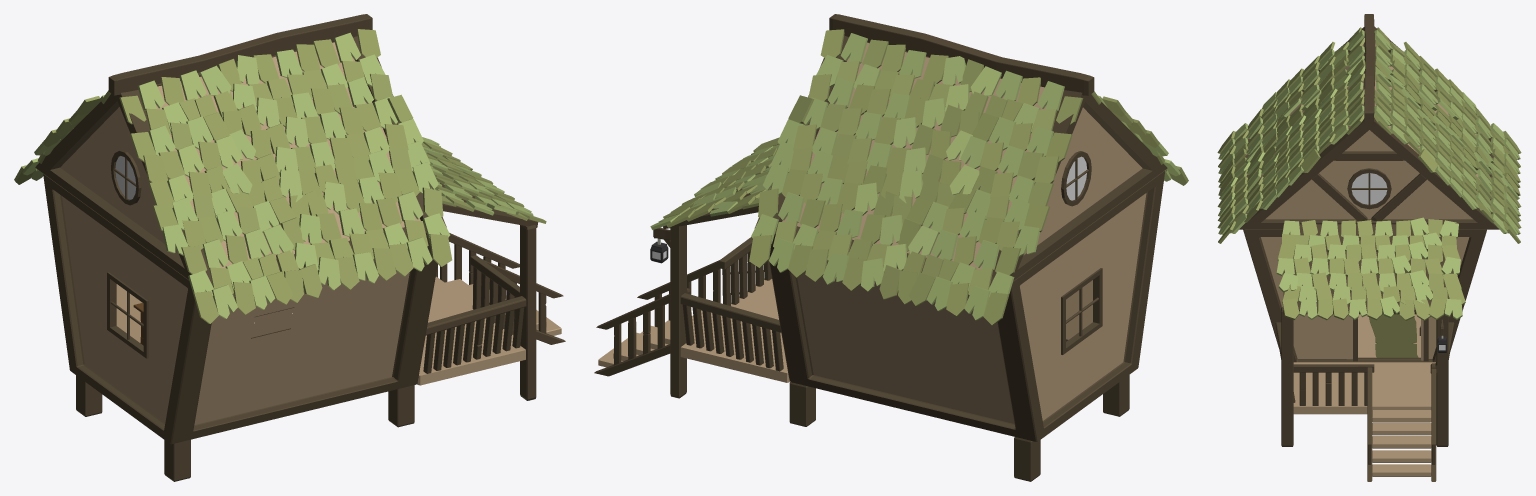
Rendered from ODHouse1.fbx.
The picture shows the model from 3 angles, left to right: view 1: azimuth 30°, elevation 25°; view 2: azimuth 150°, elevation 25°; view 3: azimuth 270°, elevation 25°; orthographic projection. The views are drawn at different scales.
Parts seen in each view (by area): view 1: Cube.034, Vert.010, Vert.009, Cube.035, Cube.044, Cube.040, Cube.037, dışayaklar, Vert.013, Cube.059, Vert.014, Cube.045 (+9 smaller); view 2: Cube.034, Vert.010, Vert.009, Cube.035, Cube.044, Cube.040, Cube.037, dışayaklar, Vert.013, Cube.043, Cube.059, Vert.014 (+8 smaller); view 3: Vert.010, Vert.009, Cube.035, Vert.013, Cube.034, Vert.014, Cube.037, Plane.012, dışayaklar, Plane.014, Cube.061, Cube.042 (+8 smaller).
Boxes of the visible parts, x1=… form: Cube.034: x1=43, y1=174, x2=437, y2=444; Vert.010: x1=14, y1=29, x2=452, y2=323; Vert.009: x1=22, y1=32, x2=450, y2=318; Cube.035: x1=35, y1=36, x2=446, y2=284; Cube.044: x1=108, y1=14, x2=372, y2=95; Cube.040: x1=423, y1=307, x2=524, y2=373; Cube.037: x1=417, y1=276, x2=525, y2=385; dışayaklar: x1=435, y1=225, x2=536, y2=400; Vert.013: x1=421, y1=141, x2=546, y2=223; Cube.059: x1=76, y1=375, x2=190, y2=481; Vert.014: x1=422, y1=137, x2=533, y2=215; Cube.045: x1=107, y1=271, x2=148, y2=358; Cube.034: x1=769, y1=171, x2=1164, y2=441; Vert.010: x1=749, y1=29, x2=1188, y2=325; Vert.009: x1=751, y1=33, x2=1180, y2=320; Cube.035: x1=754, y1=35, x2=1167, y2=285; Cube.044: x1=829, y1=14, x2=1094, y2=95; Cube.040: x1=682, y1=304, x2=783, y2=371; Cube.037: x1=680, y1=278, x2=790, y2=382; dışayaklar: x1=670, y1=225, x2=690, y2=398; Vert.013: x1=663, y1=137, x2=779, y2=227; Cube.043: x1=614, y1=269, x2=720, y2=365; Cube.059: x1=1014, y1=375, x2=1129, y2=481; Vert.014: x1=650, y1=144, x2=779, y2=229; Vert.010: x1=1217, y1=27, x2=1521, y2=243; Vert.009: x1=1218, y1=30, x2=1520, y2=234; Cube.035: x1=1239, y1=27, x2=1499, y2=229; Vert.013: x1=1277, y1=219, x2=1465, y2=320; Cube.034: x1=1243, y1=229, x2=1486, y2=362; Vert.014: x1=1276, y1=217, x2=1462, y2=319; Cube.037: x1=1293, y1=362, x2=1435, y2=414; Plane.012: x1=1372, y1=410, x2=1431, y2=476; dışayaklar: x1=1281, y1=307, x2=1448, y2=446; Plane.014: x1=1312, y1=151, x2=1426, y2=220; Cube.061: x1=1369, y1=314, x2=1418, y2=357; Cube.042: x1=1299, y1=372, x2=1367, y2=405.
Size of the model in its own units: 1193 by 923 by 860.
